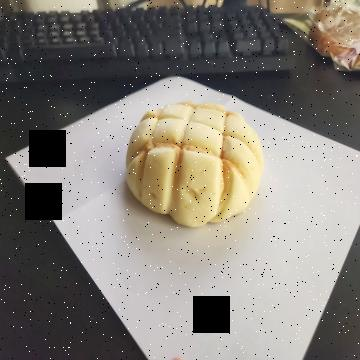melon_bread: (123, 102, 265, 229)
